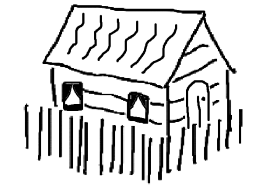door: (183, 77, 214, 131)
open_window: (127, 92, 149, 125), (62, 80, 84, 111)
roof: (41, 4, 235, 89)
wall: (164, 8, 240, 135)
